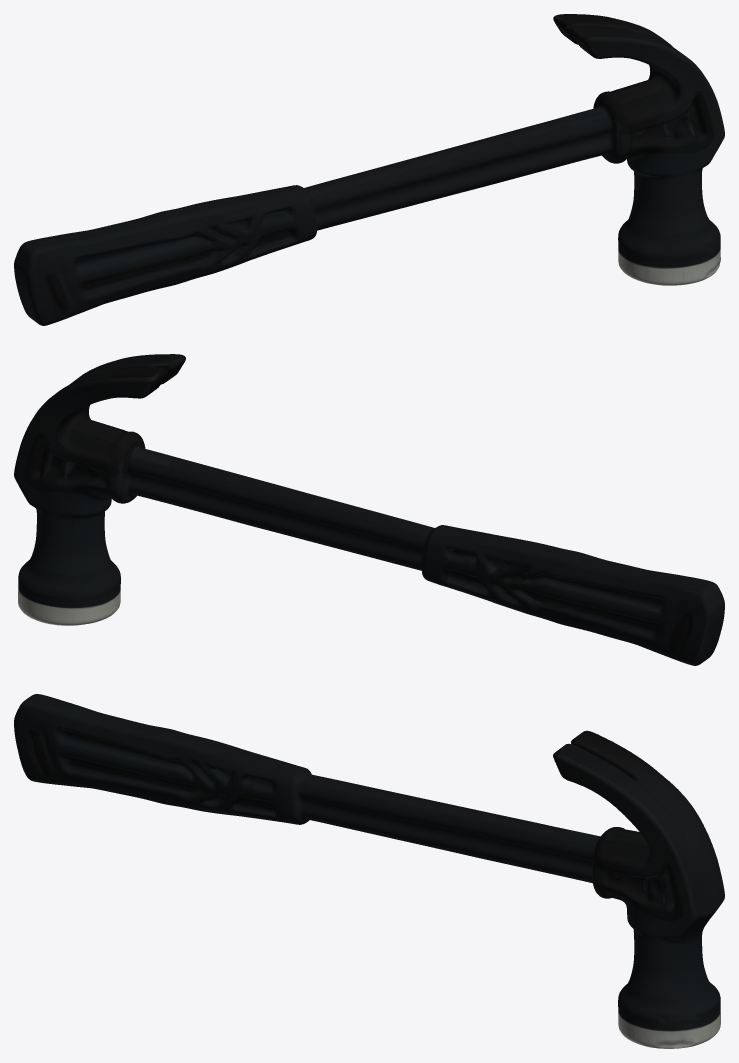
File: hammer.fbx
3 renders of one model, top to bottom at view 1: azimuth 30°, elevation 25°; view 2: azimuth 150°, elevation 25°; view 3: azimuth 330°, elevation 25°, orthographic.
Visible parts, largest first — view 1: texture_v100; view 2: texture_v100; view 3: texture_v100.
Part boxes in pixels (left/top/right/bottom): texture_v100: left=14, top=14, right=724, bottom=325; texture_v100: left=14, top=354, right=724, bottom=665; texture_v100: left=14, top=694, right=724, bottom=1048.
Bounding box in the file's own units: 113 × 41.1 × 14.64.
Materials: 1 (1 with a texture image).
